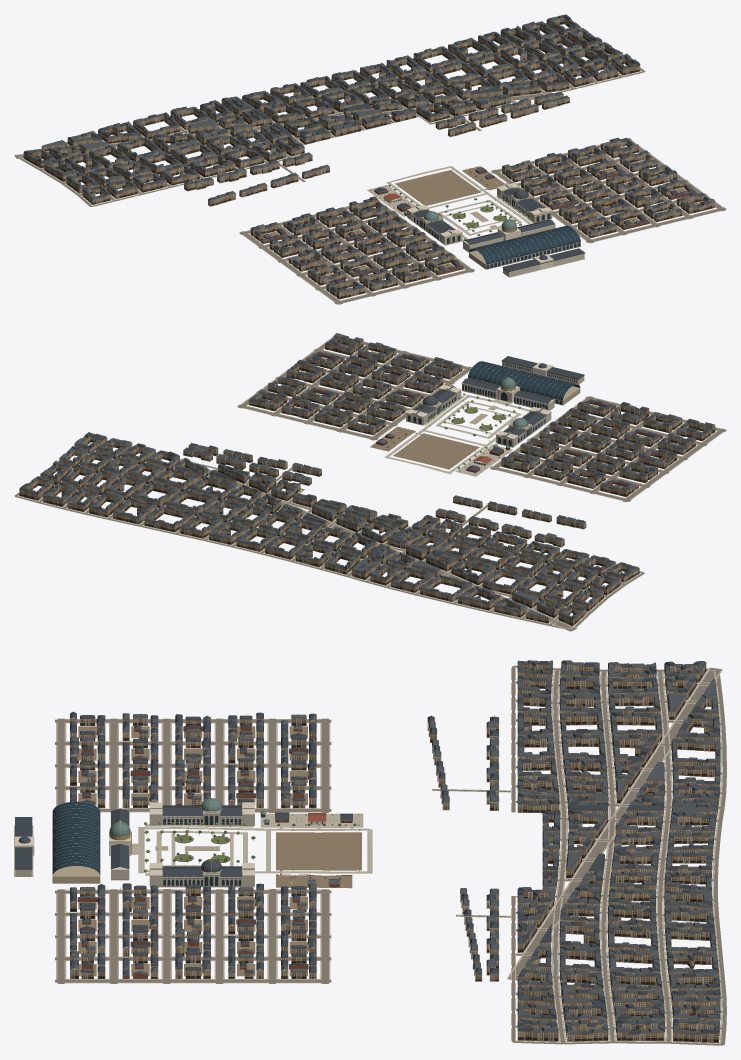
Rendered from paris-city.glb.
3 views of the same model, one above another, from view 1: azimuth 30°, elevation 25°; view 2: azimuth 150°, elevation 25°; view 3: azimuth 270°, elevation 25° (orthographic). The views are drawn at different scales.
Parts seen in each view (by area): view 1: Paris Exposition architecture and streets-masonry-facade.004, Paris Exposition architecture and streets-zinc.004, Paris Exposition architecture and streets-slate.004, Paris Exposition architecture and streets-paving.004, Paris Exposition architecture and streets-road.004, Paris Exposition architecture and streets-stone-warm.004, Paris Exposition architecture and streets-glass.004, Paris Exposition architecture and streets-stone-light.004, Paris Exposition architecture and streets-work-earth.004, Paris Exposition architecture and streets-brick.004, Paris Exposition architecture and streets-stone.004, Paris Exposition architecture and streets-courtyard-earth.00; view 2: Paris Exposition architecture and streets-masonry-facade.004, Paris Exposition architecture and streets-zinc.004, Paris Exposition architecture and streets-slate.004, Paris Exposition architecture and streets-road.004, Paris Exposition architecture and streets-paving.004, Paris Exposition architecture and streets-stone-warm.004, Paris Exposition architecture and streets-glass.004, Paris Exposition architecture and streets-stone-light.004, Paris Exposition architecture and streets-work-earth.004, Paris Exposition architecture and streets-brick.004, Paris Exposition architecture and streets-stone.004; view 3: Paris Exposition architecture and streets-masonry-facade.004, Paris Exposition architecture and streets-zinc.004, Paris Exposition architecture and streets-slate.004, Paris Exposition architecture and streets-road.004, Paris Exposition architecture and streets-paving.004, Paris Exposition architecture and streets-stone-warm.004, Paris Exposition architecture and streets-work-earth.004, Paris Exposition architecture and streets-glass.004, Paris Exposition architecture and streets-courtyard-earth.00, Paris Exposition architecture and streets-stone-light.004, Paris Exposition architecture and streets-brick.004, Paris Exposition architecture and streets-stone.004 (+1 smaller).
Boxes of the visible parts, x1,y1,x2,y2 form: Paris Exposition architecture and streets-masonry-facade.004: (23, 17, 715, 299); Paris Exposition architecture and streets-zinc.004: (25, 16, 714, 292); Paris Exposition architecture and streets-slate.004: (24, 14, 709, 292); Paris Exposition architecture and streets-paving.004: (14, 37, 723, 303); Paris Exposition architecture and streets-road.004: (14, 41, 726, 304); Paris Exposition architecture and streets-stone-warm.004: (24, 24, 712, 299); Paris Exposition architecture and streets-glass.004: (264, 170, 687, 275); Paris Exposition architecture and streets-stone-light.004: (184, 94, 589, 286); Paris Exposition architecture and streets-work-earth.004: (395, 166, 504, 205); Paris Exposition architecture and streets-brick.004: (28, 16, 710, 282); Paris Exposition architecture and streets-stone.004: (257, 143, 709, 291); Paris Exposition architecture and streets-courtyard-earth.00: (263, 146, 700, 289); Paris Exposition architecture and streets-masonry-facade.004: (19, 335, 715, 625); Paris Exposition architecture and streets-zinc.004: (27, 333, 704, 619); Paris Exposition architecture and streets-slate.004: (19, 335, 713, 619); Paris Exposition architecture and streets-road.004: (14, 335, 726, 631); Paris Exposition architecture and streets-paving.004: (18, 337, 723, 631); Paris Exposition architecture and streets-stone-warm.004: (20, 347, 714, 626); Paris Exposition architecture and streets-glass.004: (315, 354, 653, 485); Paris Exposition architecture and streets-stone-light.004: (183, 362, 660, 543); Paris Exposition architecture and streets-work-earth.004: (370, 427, 479, 469); Paris Exposition architecture and streets-brick.004: (42, 333, 707, 615); Paris Exposition architecture and streets-stone.004: (267, 334, 714, 487); Paris Exposition architecture and streets-masonry-facade.004: (70, 661, 720, 1042); Paris Exposition architecture and streets-zinc.004: (70, 660, 720, 1034); Paris Exposition architecture and streets-slate.004: (15, 661, 720, 1034); Paris Exposition architecture and streets-road.004: (55, 665, 726, 1045); Paris Exposition architecture and streets-paving.004: (56, 667, 722, 1043); Paris Exposition architecture and streets-stone-warm.004: (14, 672, 720, 1043); Paris Exposition architecture and streets-work-earth.004: (276, 832, 361, 888); Paris Exposition architecture and streets-glass.004: (52, 801, 350, 885); Paris Exposition architecture and streets-courtyard-earth.00: (78, 726, 307, 976); Paris Exposition architecture and streets-stone-light.004: (15, 717, 499, 979); Paris Exposition architecture and streets-brick.004: (70, 661, 718, 1031); Paris Exposition architecture and streets-stone.004: (15, 717, 316, 970).
Size of the model in its own units: 1770 by 84.75 by 1404.
Materials: 25 (1 with a texture image).
